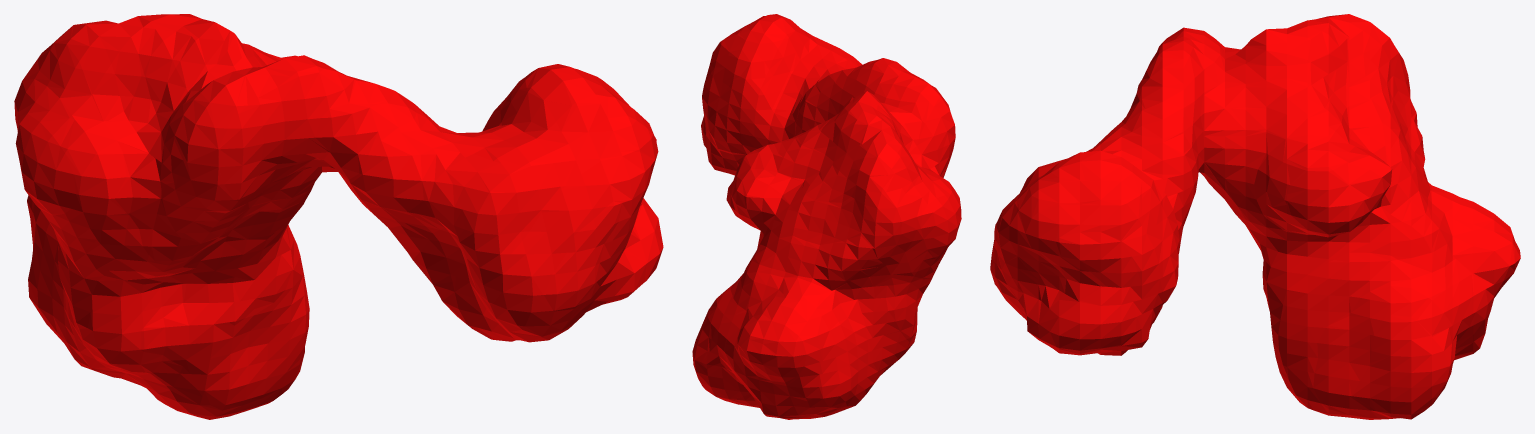
The model's file is argP_coarse.dae.
3 views of the same model, side by side, from view 1: azimuth 30°, elevation 25°; view 2: azimuth 150°, elevation 25°; view 3: azimuth 270°, elevation 25° (orthographic). The views are drawn at different scales.
Visible parts, largest first — view 1: argP; view 2: argP; view 3: argP.
Part boxes in pixels (x1,y1,x2,y2): argP: [14, 14, 663, 419]; argP: [692, 14, 961, 419]; argP: [990, 14, 1520, 419].
Size of the model in its own units: 69.03 by 57.74 by 78.41.
